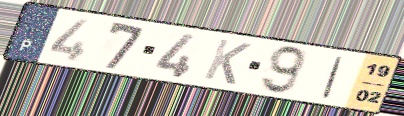4: (151, 30, 196, 80), (46, 17, 92, 62)
7: (103, 19, 146, 71)
9: (259, 44, 309, 97)
I: (318, 54, 346, 100)
K: (200, 37, 254, 87)
